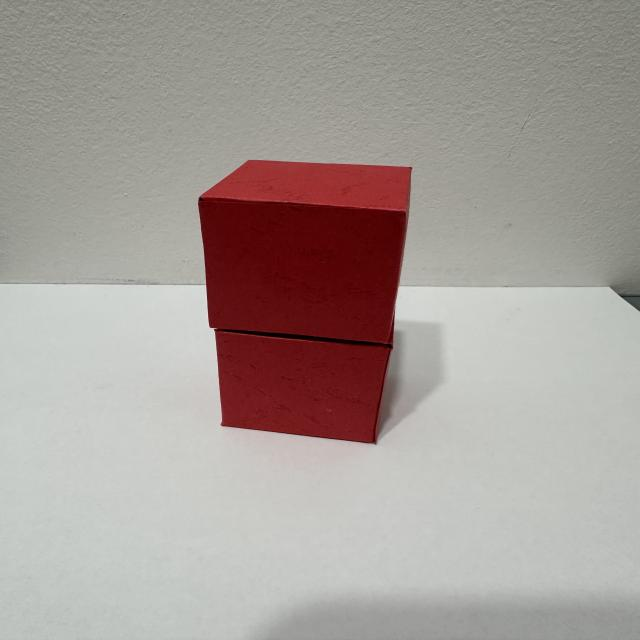red_cube: (179, 136, 464, 463)
